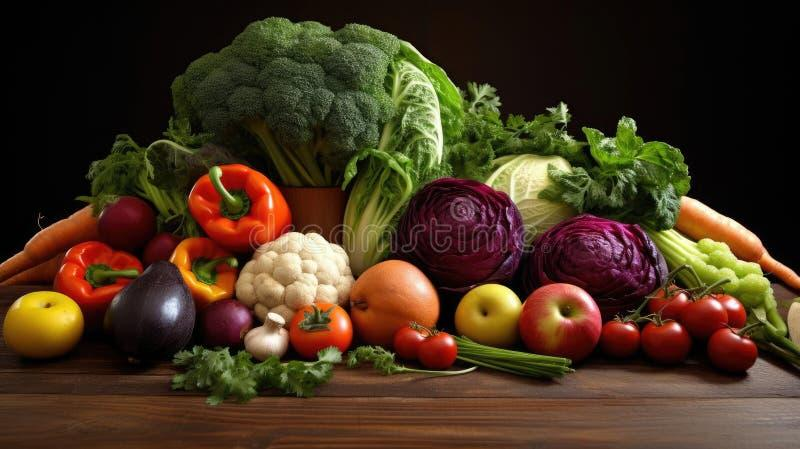apple: (517, 285, 602, 364)
bell pepper: (57, 238, 148, 308)
broccoli: (171, 18, 474, 187)
cabbage: (505, 134, 596, 249)
tomato: (604, 277, 775, 368), (288, 295, 363, 377)
